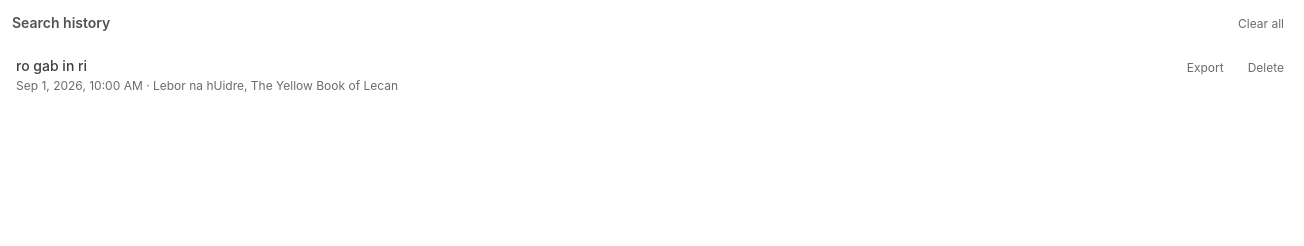
Test case: SearchHistorySection › keeps a column that found nothing: a search that found nothing is still a search
The width and height of the screenshot is (1304, 246).
Step 1. Click the button "ro gab in ri" → (52, 66), box x1=12 y1=44 x2=1171 y2=106
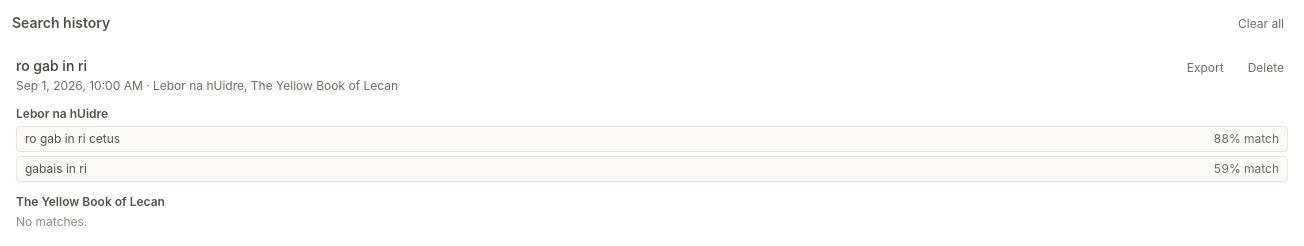
Now the text "No matches." is shown, box x1=16 y1=214 x2=87 y2=229
